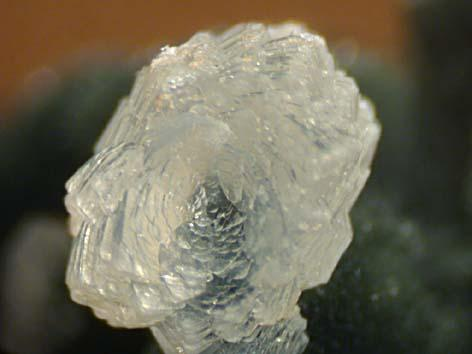prehnite: (63, 20, 383, 354)
